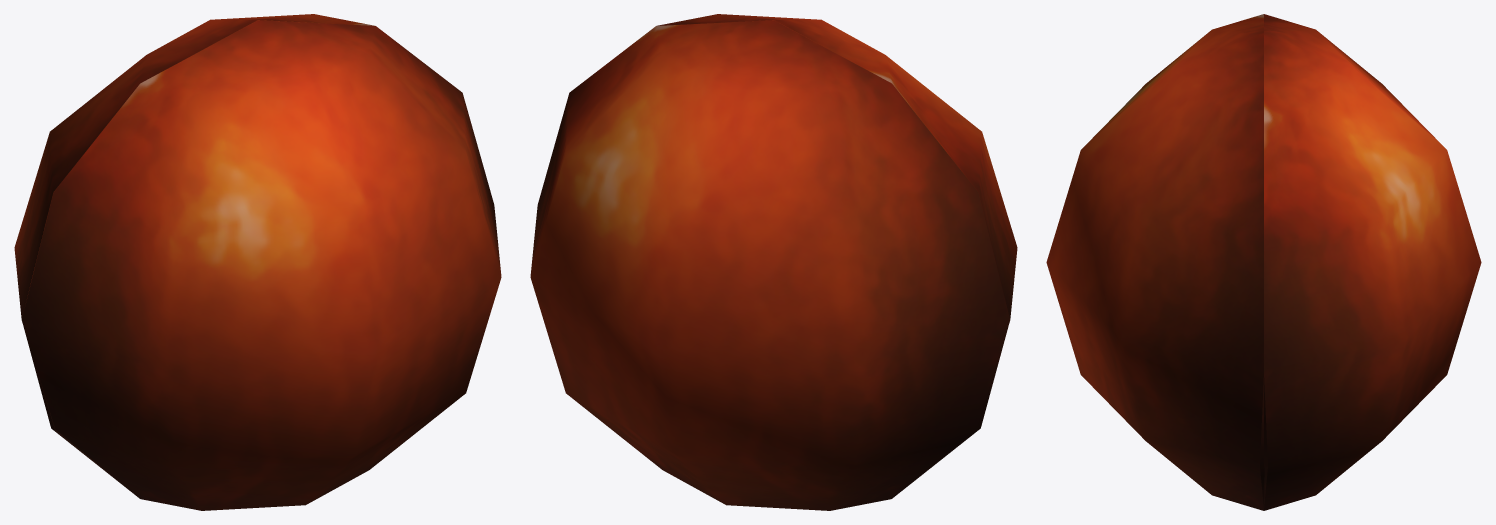
The model's file is avacado_egg.fbx.
The picture shows the model from 3 angles, left to right: view 1: azimuth 30°, elevation 25°; view 2: azimuth 150°, elevation 25°; view 3: azimuth 270°, elevation 25°; orthographic projection. The views are drawn at different scales.
Parts seen in each view (by area): view 1: avacado_egg; view 2: avacado_egg; view 3: avacado_egg.
Part boxes in pixels (x1,y1,x2,y2): avacado_egg: (14,14,501,510); avacado_egg: (530,14,1017,510); avacado_egg: (1046,14,1481,510).
Bounding box in the file's own units: 20.13 × 19.75 × 17.13.
1 material, 1 textured.
